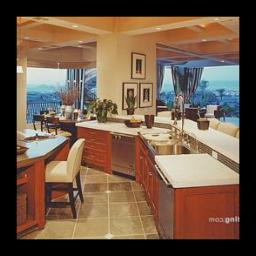Electrodomestico: (155, 161, 228, 237), (107, 134, 136, 179)
Lavaplatos: (146, 95, 189, 159)
